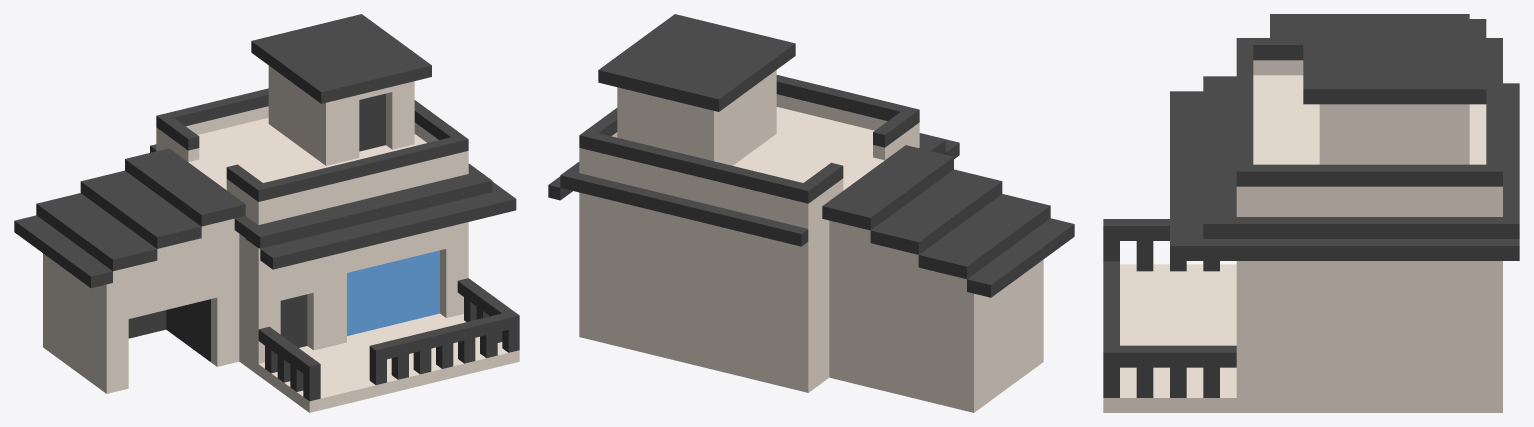
Rendered from house.obj.
3 views of the same model, side by side, from view 1: azimuth 30°, elevation 25°; view 2: azimuth 150°, elevation 25°; view 3: azimuth 270°, elevation 25° (orthographic). The views are drawn at different scales.
Size of the model in its own units: 3.5 by 2.1 by 2.5.
Materials: 1 (1 with a texture image).
